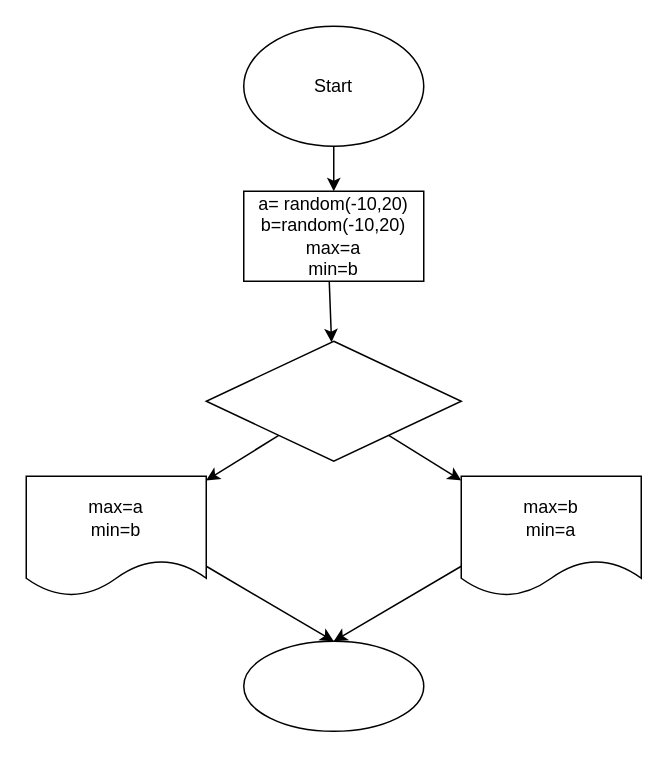
Image size: 668x758. Some labels were removed from this diagram. Each missing label, with the centre of its shape:
a>b: pixel 333 400
End: pixel 333 685
